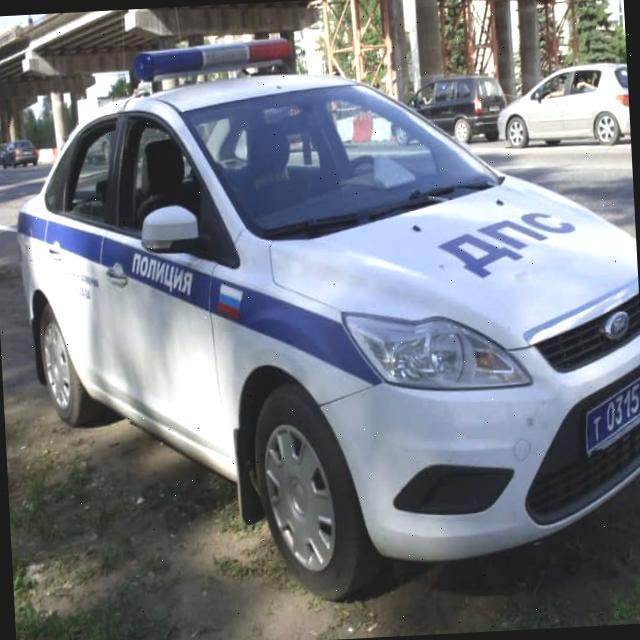number-plates: (580, 365, 640, 460)
